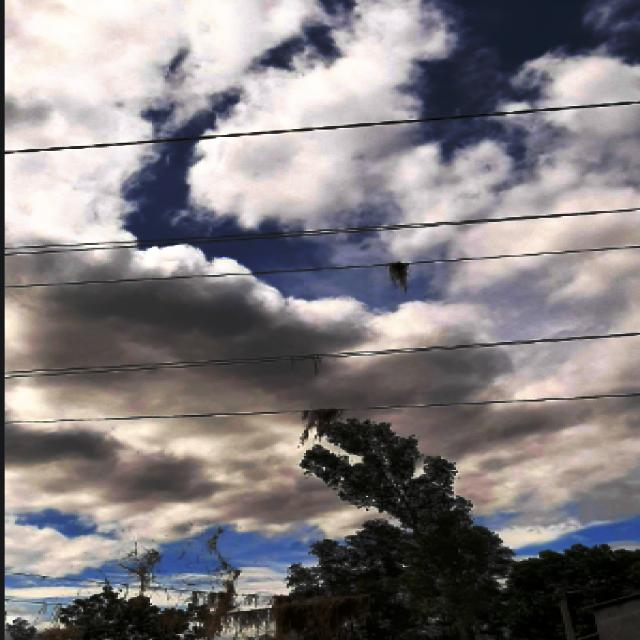obstruction: (299, 408, 342, 443), (382, 257, 419, 297)
wires: (3, 196, 636, 264), (0, 324, 636, 389), (0, 94, 635, 158), (14, 260, 375, 289), (353, 391, 636, 419), (417, 241, 638, 269), (13, 408, 302, 427)
